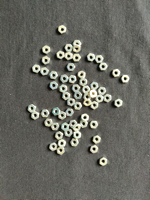nut: (42, 46, 51, 55), (87, 53, 96, 62), (89, 90, 98, 99), (67, 98, 76, 107), (59, 25, 67, 34), (73, 44, 81, 53), (57, 51, 65, 60), (72, 54, 81, 62), (95, 55, 104, 63), (42, 56, 50, 65), (32, 65, 41, 73), (67, 63, 76, 71), (112, 69, 121, 77), (50, 71, 58, 80), (69, 75, 77, 84), (80, 78, 88, 87), (72, 85, 81, 93), (82, 86, 91, 94), (91, 82, 99, 91), (98, 87, 107, 95), (63, 92, 71, 101), (74, 92, 83, 100), (104, 94, 112, 103), (115, 99, 123, 108), (84, 98, 92, 107), (91, 101, 99, 110), (52, 108, 61, 116), (41, 110, 50, 118), (31, 112, 40, 120), (44, 119, 53, 127), (51, 123, 60, 131), (90, 121, 99, 129), (65, 44, 73, 52), (65, 52, 73, 60), (100, 63, 108, 71), (122, 75, 130, 83), (41, 68, 49, 76), (78, 71, 86, 79), (61, 75, 69, 83), (50, 82, 58, 90), (60, 85, 68, 93), (96, 95, 104, 103), (74, 102, 82, 110), (66, 109, 74, 117), (28, 105, 36, 113), (81, 114, 89, 122), (70, 120, 78, 128), (73, 124, 81, 132), (55, 132, 63, 140), (71, 139, 79, 147), (93, 136, 101, 144), (58, 140, 66, 148), (50, 143, 58, 151), (57, 147, 65, 155), (91, 146, 99, 154), (100, 158, 108, 166), (62, 123, 69, 132), (74, 131, 81, 140), (59, 112, 66, 120), (80, 121, 88, 128), (65, 130, 73, 137), (73, 40, 82, 46), (84, 94, 92, 100)
